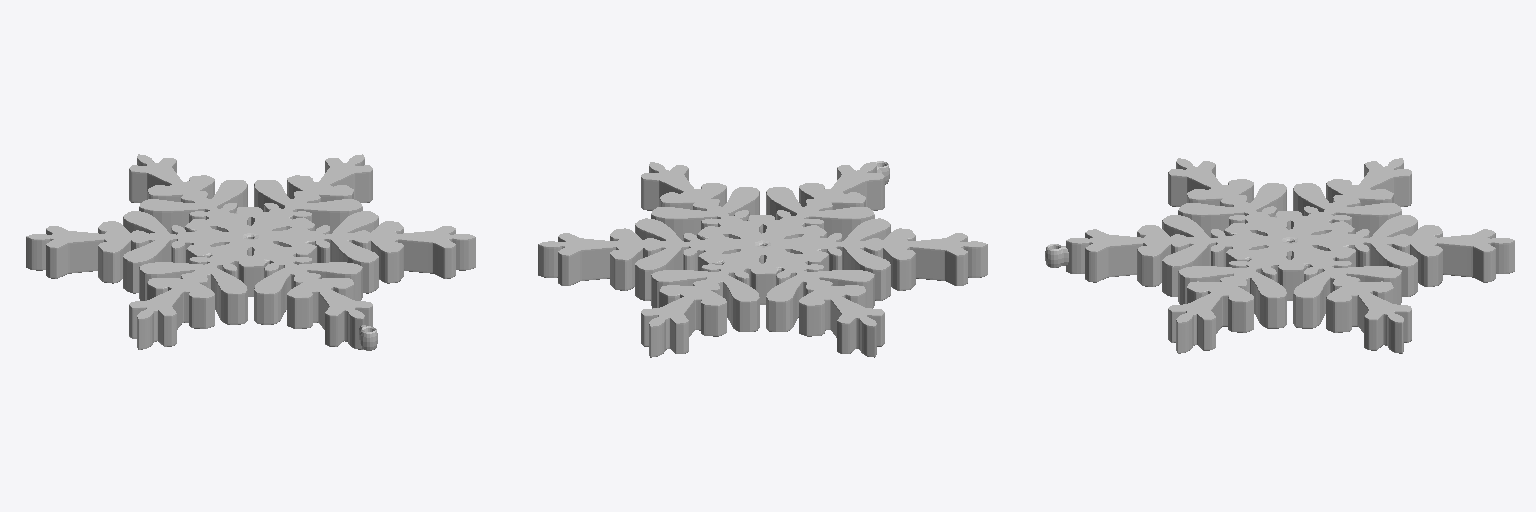
File: snowflake.obj
The picture shows the model from 3 angles: view 1: azimuth 30°, elevation 25°; view 2: azimuth 150°, elevation 25°; view 3: azimuth 270°, elevation 25°; orthographic projection.
Parts seen in each view (by area): view 1: 17767_Stellar_dendrites_shaped_Snowflake_v1; view 2: 17767_Stellar_dendrites_shaped_Snowflake_v1; view 3: 17767_Stellar_dendrites_shaped_Snowflake_v1.
Boxes of the visible parts, box(x1,y1,x2,y2) form: 17767_Stellar_dendrites_shaped_Snowflake_v1: box(26, 154, 475, 350); 17767_Stellar_dendrites_shaped_Snowflake_v1: box(538, 161, 987, 357); 17767_Stellar_dendrites_shaped_Snowflake_v1: box(1045, 158, 1514, 353).
Bounding box in the file's own units: 3.45 × 0.3066 × 4.16.